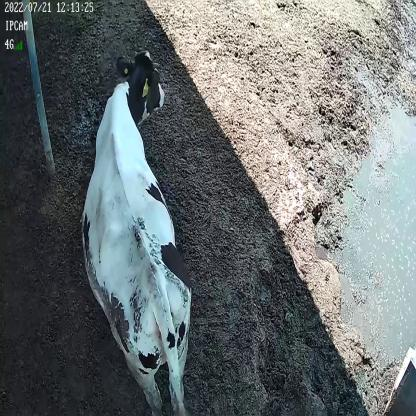cow: (80, 47, 194, 415)
